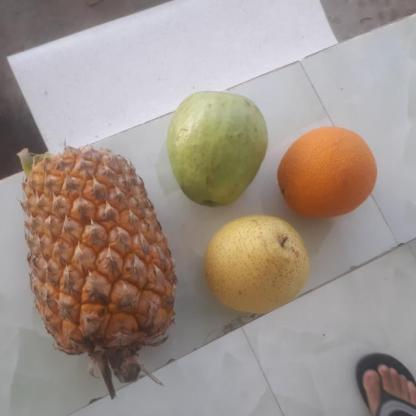guava: (165, 89, 271, 207)
orange: (274, 127, 379, 217)
pear: (197, 213, 310, 313)
pineapple: (16, 152, 172, 360)
